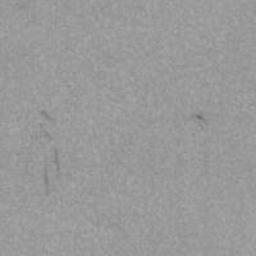Inclusion: (41, 126, 60, 175), (44, 163, 49, 194), (40, 110, 54, 121), (195, 114, 205, 121)
